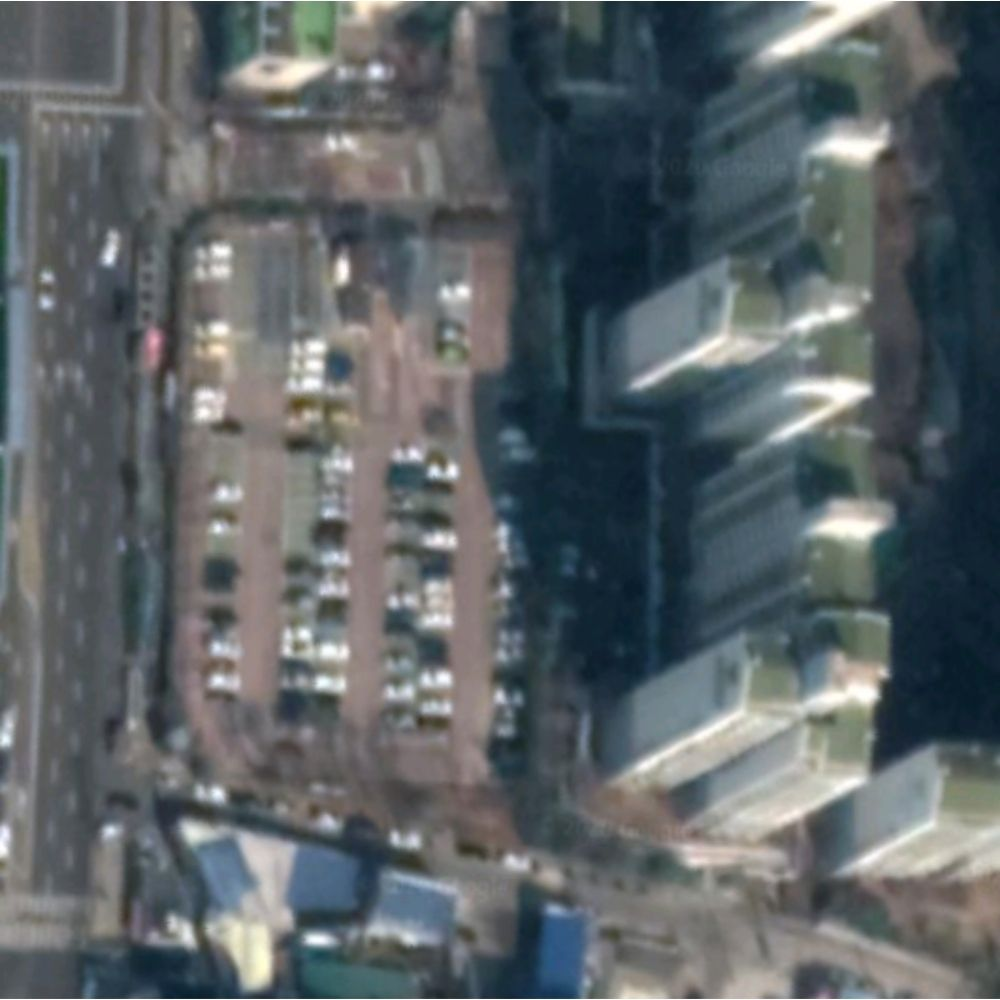parking: (180, 220, 525, 775)
